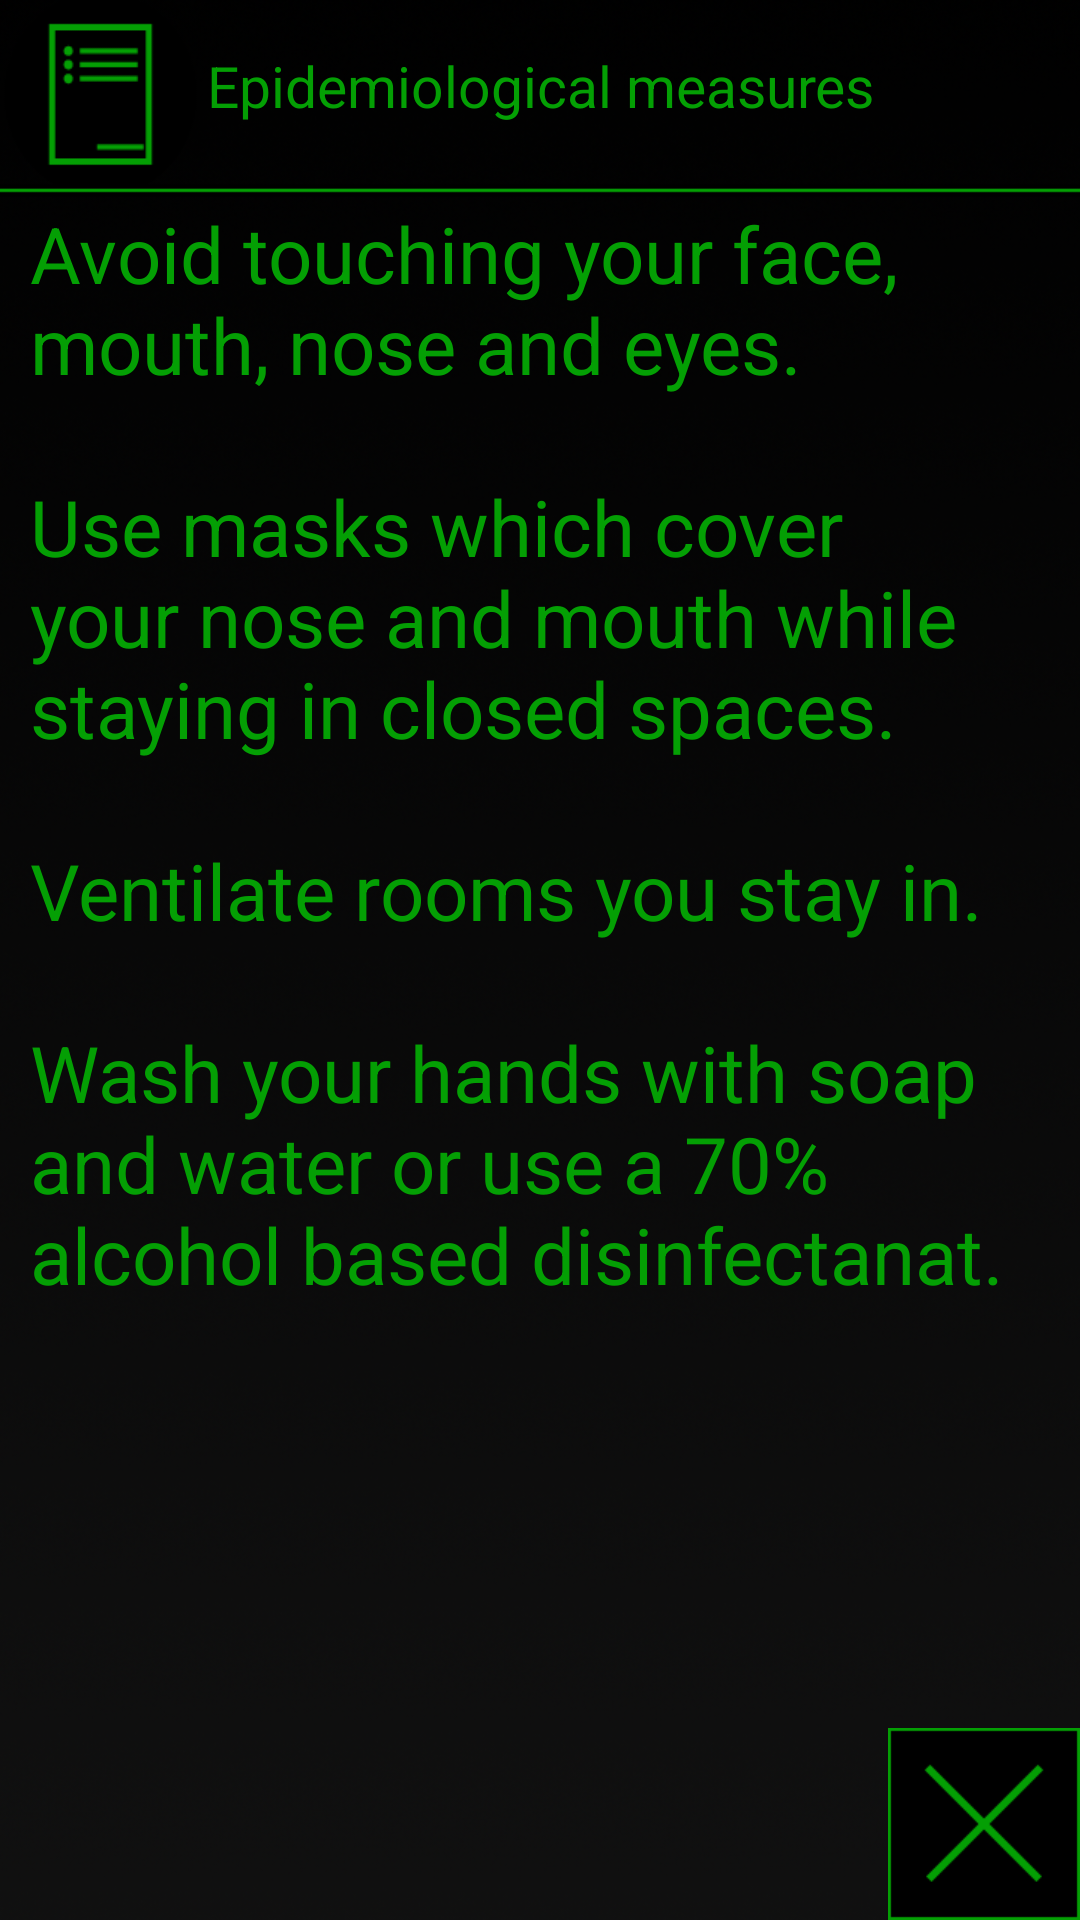

Screen size 1080*1920. Icon name, then its center in pixels as [x,y]:
No: [984,1824]
